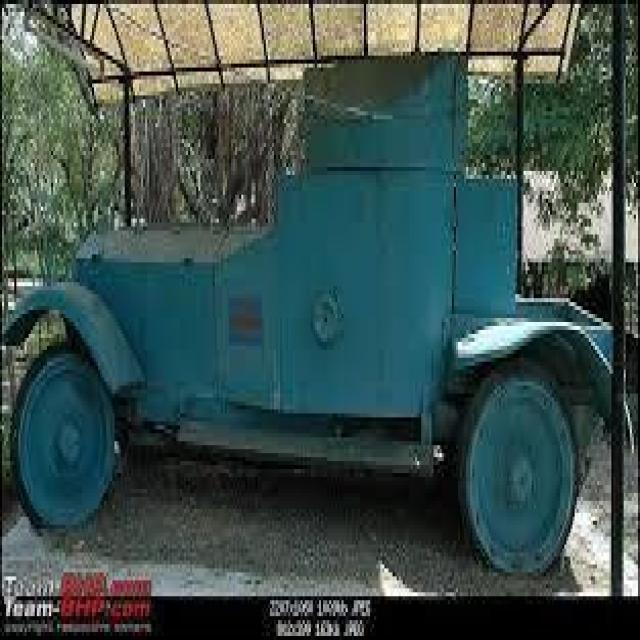Tanks: (21, 87, 597, 568)
